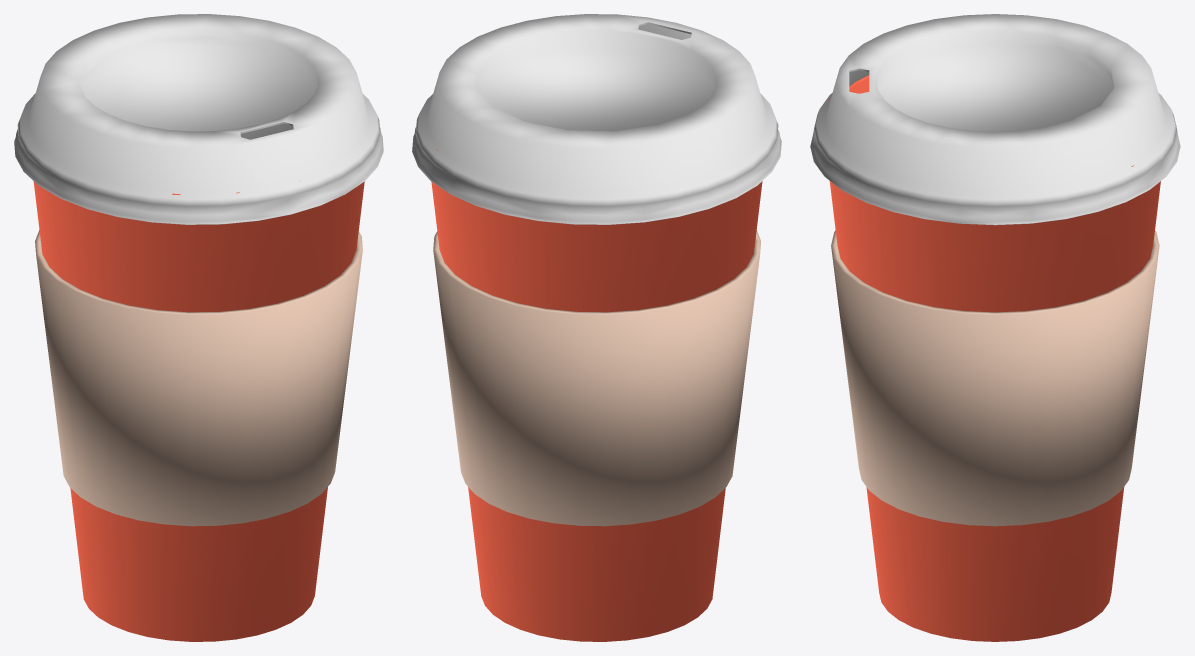
Rendered from coffee cup.fbx.
3 renders of one model, left to right at view 1: azimuth 30°, elevation 25°; view 2: azimuth 150°, elevation 25°; view 3: azimuth 270°, elevation 25°, orthographic.
Parts seen in each view (by area): view 1: Sleeve, Lid, Cup; view 2: Sleeve, Lid, Cup; view 3: Sleeve, Lid, Cup.
Part boxes in pixels (x1=…): Sleeve: x1=35, y1=230, x2=362, y2=526; Lid: x1=14, y1=14, x2=383, y2=224; Cup: x1=33, y1=181, x2=364, y2=641; Sleeve: x1=433, y1=230, x2=760, y2=526; Lid: x1=412, y1=14, x2=781, y2=224; Cup: x1=431, y1=149, x2=762, y2=641; Sleeve: x1=831, y1=230, x2=1159, y2=526; Lid: x1=810, y1=14, x2=1180, y2=225; Cup: x1=823, y1=75, x2=1160, y2=641.
Size of the model in its own units: 319 by 486 by 319.
